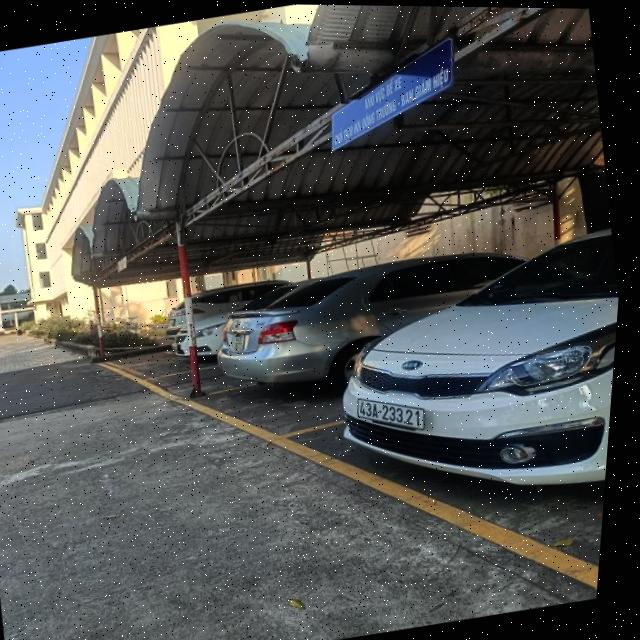car: (294, 220, 624, 529), (195, 214, 624, 437)
plate: (339, 380, 435, 445)
